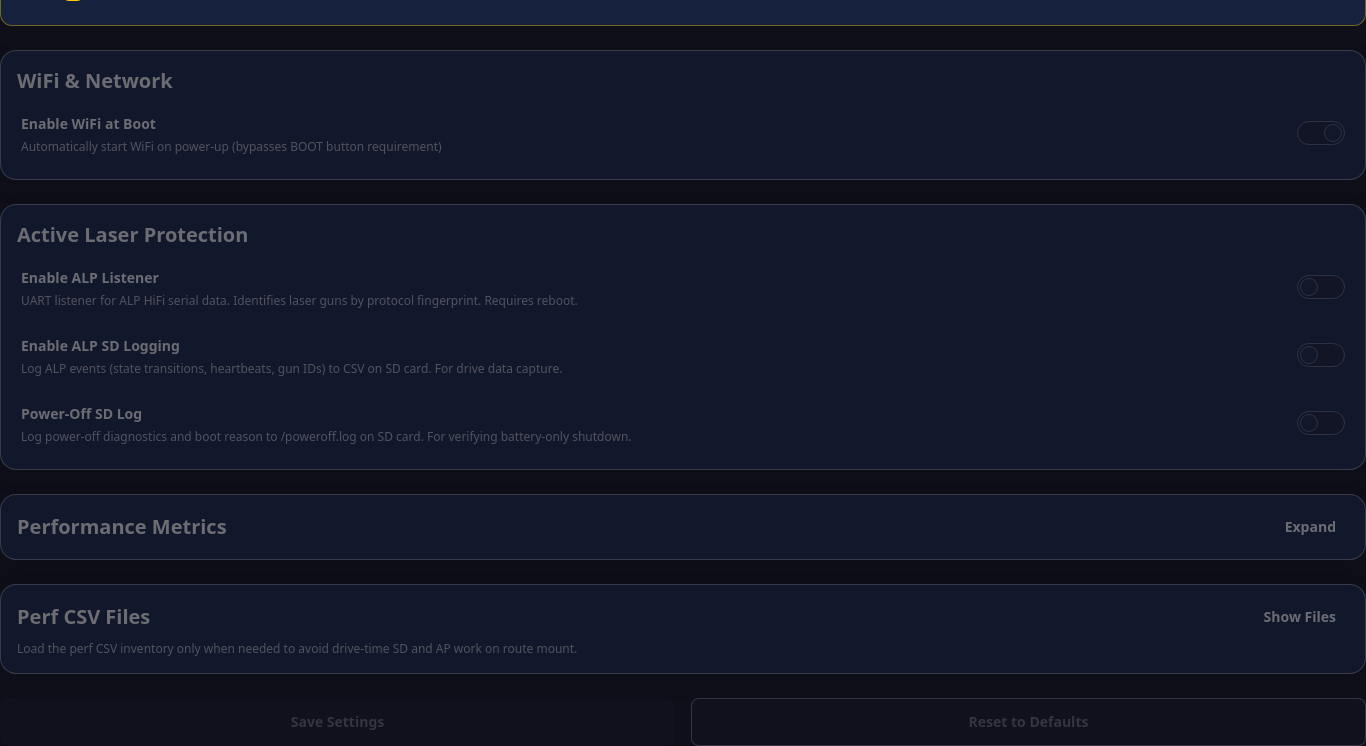
dev route page › shows an error when perf files fail to load after the panel is opened
(page scrolled)
Expected: the text "Enable WiFi at Boot" is shown, left=21, top=114, right=156, bottom=133
Click the button "Show Files" at (1300, 617), box left=1251, top=601, right=1349, bottom=633
Wait 150 ms
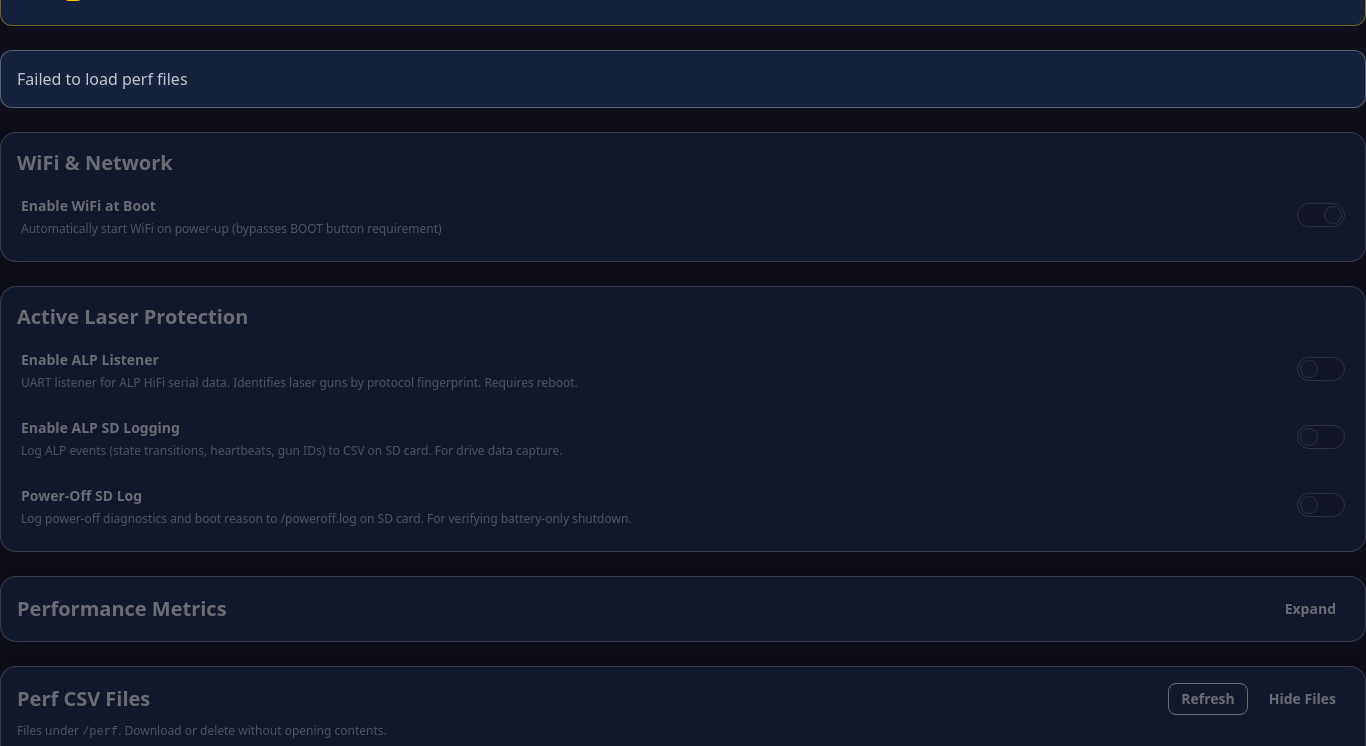
Expected: the heading "Perf CSV Files" is shown, left=17, top=685, right=150, bottom=713
Expected: the text "Failed to load perf files" is shown, left=17, top=67, right=188, bottom=91
